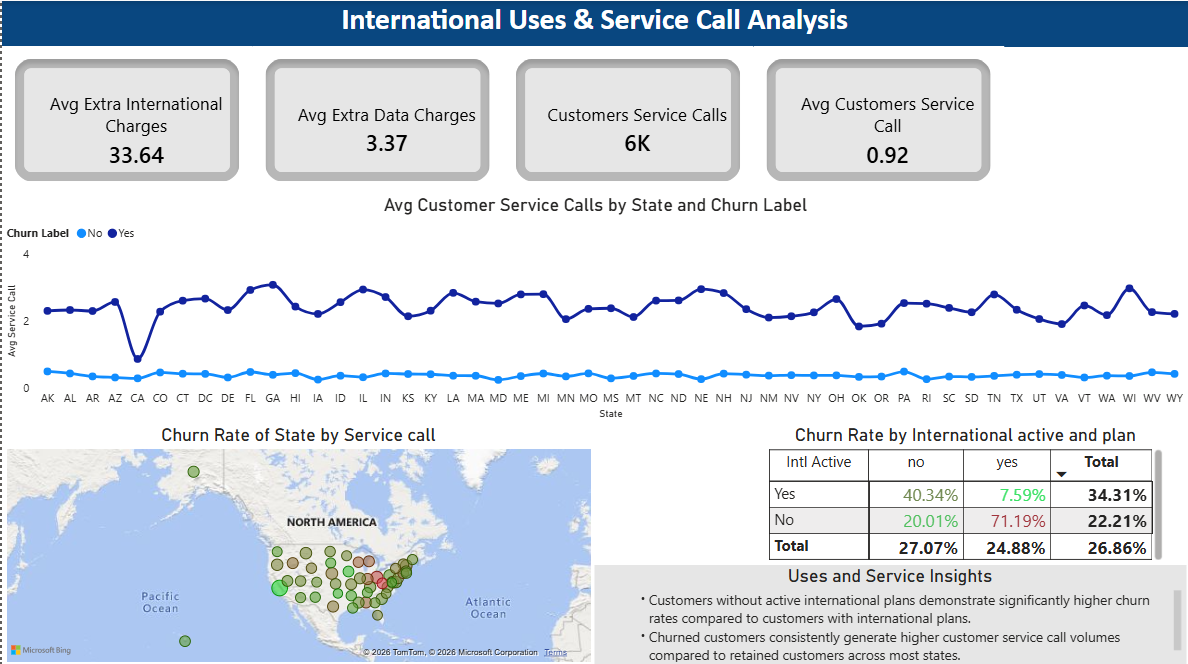

This screenshot's page, from the dashboard's own definition file:
{"tool":"powerbi","page":{"name":"International Uses & Service Call Analysis","canvas":[1280,720],"ordinal":4},"visuals":[{"type":"lineChart","fields":{"Y":["calculation.Avg Customer Service Calls"],"Category":["Databel - Data.State"],"Series":["Databel - Data.Churn Label"]},"box":[0,208.8,1281.1,247.2],"z":0},{"type":"map","title":"Churn Rate of State by Service call","fields":{"Category":["Databel - Data.State"],"Size":["calculation.Churn Rate %"]},"box":[0,456.7,640,263.3],"z":1000},{"type":"textbox","title":"International Uses & Service Call Analysis","box":[0,0,1279.5,48.4],"z":2000},{"type":"cardVisual","title":"Customers","fields":{"Data":["calculation.Avg Extra International Charges"]},"box":[0,48.4,270.6,160.3],"z":3000},{"type":"cardVisual","title":"Customers","fields":{"Data":["calculation.Avg Extra Data Charges"]},"box":[270.6,48.4,270.6,160.3],"z":4000},{"type":"cardVisual","title":"Customers","fields":{"Data":["Sum(Databel - Data.Customer Service Calls)"]},"box":[541.2,48.4,270,160.3],"z":5000},{"type":"cardVisual","title":"Customers","fields":{"Data":["Avg(Databel - Data.Customer Service Calls)"]},"box":[811.8,48.4,270.6,160.3],"z":6000},{"type":"pivotTable","title":"Churn Rate by International active and plan","fields":{"Values":["calculation.Churn Rate %"],"Rows":["Databel - Data.Intl Active"],"Columns":["Databel - Data.Intl Plan"]},"box":[823.3,456.7,435,151.7],"z":7000},{"type":"textbox","title":"Uses and Service Insights","box":[640,608.3,638.3,111.7],"z":8000}]}

Visuals, with their boxes in screenshot pixels (x1, y1, x2, y2), scaled from the page's 1280x720 canvas onto the 1188x664 screenshot:
lineChart - calculation.Avg Customer Service Calls x Databel - Data.State: box=[0, 193, 1187, 421]
"Churn Rate of State by Service call" map: box=[0, 421, 594, 663]
"International Uses & Service Call Analysis" textbox: box=[0, 0, 1187, 45]
"Customers" cardVisual: box=[0, 45, 251, 192]
"Customers" cardVisual: box=[251, 45, 502, 192]
"Customers" cardVisual: box=[502, 45, 753, 192]
"Customers" cardVisual: box=[753, 45, 1005, 192]
"Churn Rate by International active and plan" pivotTable: box=[764, 421, 1168, 561]
"Uses and Service Insights" textbox: box=[594, 561, 1186, 663]
